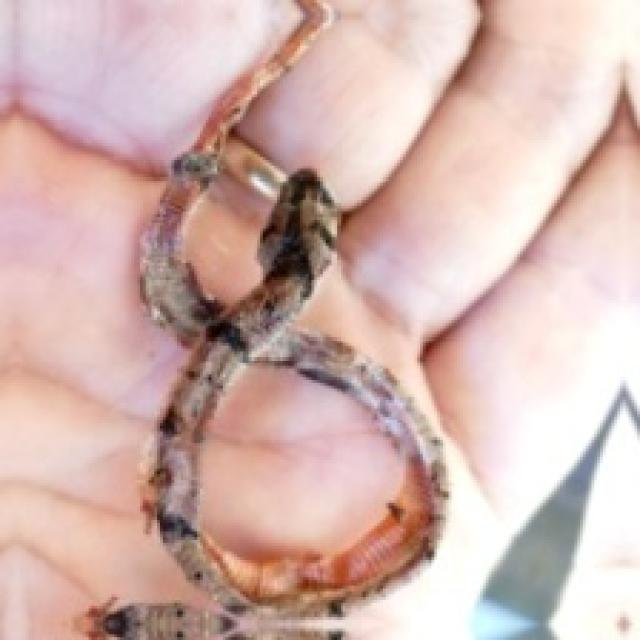northern short-headed snake: (142, 0, 448, 609)
